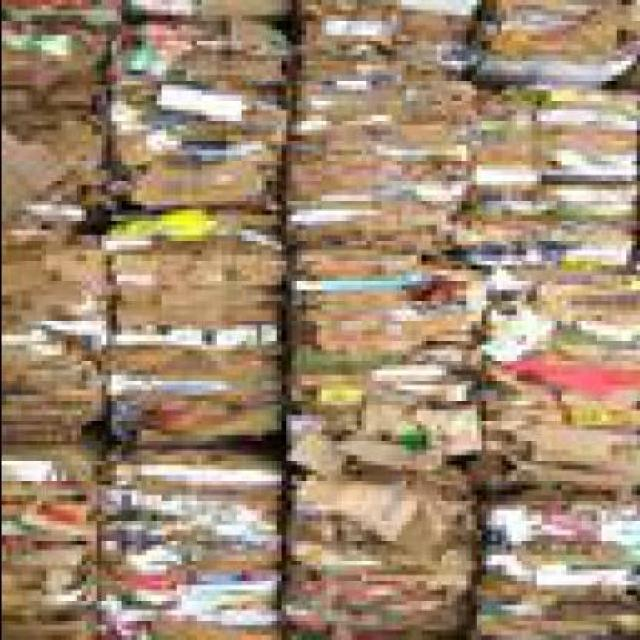CARDBOARD: (3, 4, 638, 640), (295, 244, 490, 476), (100, 220, 291, 451), (294, 51, 486, 260), (115, 30, 290, 230), (484, 274, 638, 495), (464, 89, 638, 282), (278, 476, 484, 638), (109, 456, 286, 638), (5, 220, 116, 455), (5, 4, 110, 236), (483, 495, 639, 640), (5, 451, 106, 620), (480, 5, 638, 90), (295, 5, 480, 50), (120, 4, 295, 36), (3, 616, 100, 638)
